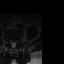CCS_normal: (12, 40, 14, 48)
LFS_severe_stenosis: (16, 40, 18, 44)
LLS_normal: (14, 40, 16, 46)
RFS_severe_stenosis: (8, 39, 10, 44)
RLS_normal: (10, 40, 12, 46)
